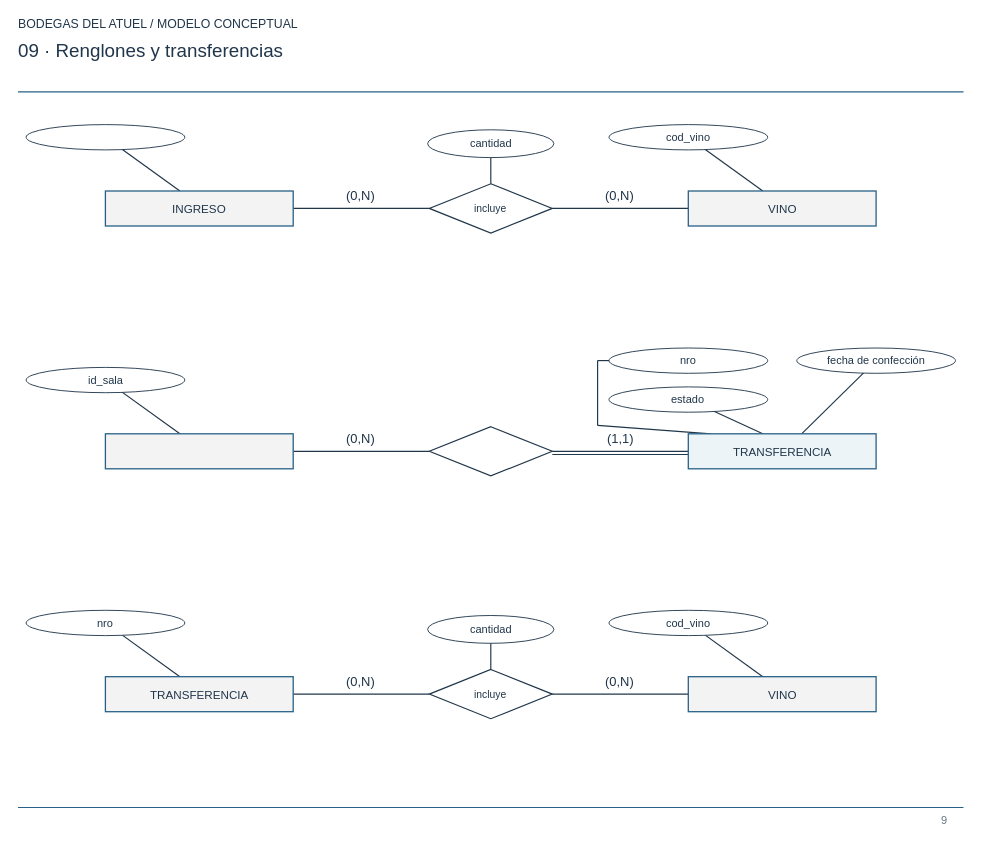
Image size: 982x844. Some labels were removed from this diagram. The shapes that lost their labels are listed below. From the top down, each one's centre as x and y in pixels, then its label:
At point (105, 137): "cod_ingreso".
At point (198, 451): "SALA DE VENTA".
At point (490, 451): "solicita".
